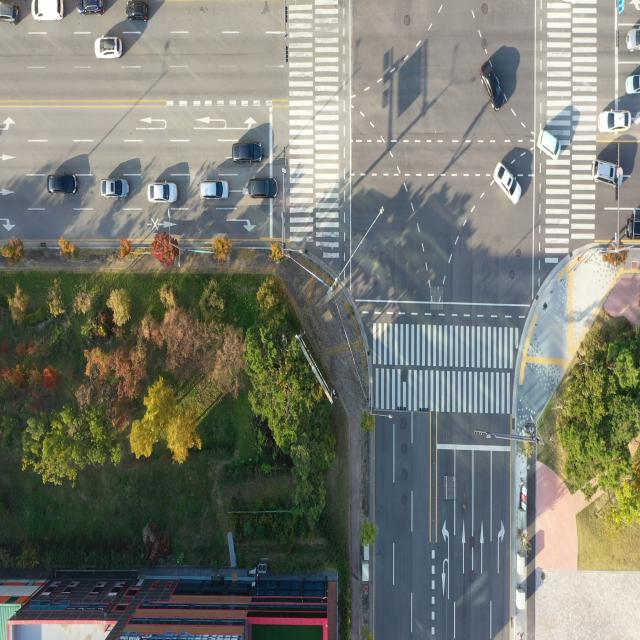car: (480, 56, 504, 113), (493, 163, 524, 207), (596, 106, 634, 130), (94, 33, 123, 61), (232, 142, 263, 166), (592, 160, 623, 184), (48, 174, 78, 197), (31, 0, 62, 22), (537, 132, 561, 160), (248, 178, 278, 200), (150, 182, 178, 204), (200, 183, 229, 203), (104, 181, 130, 202), (127, 0, 150, 23), (78, 0, 107, 18), (0, 0, 21, 21), (625, 72, 640, 101), (624, 24, 640, 51)
